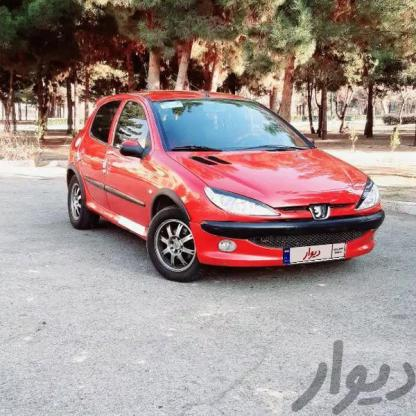Car: (60, 82, 384, 281)
